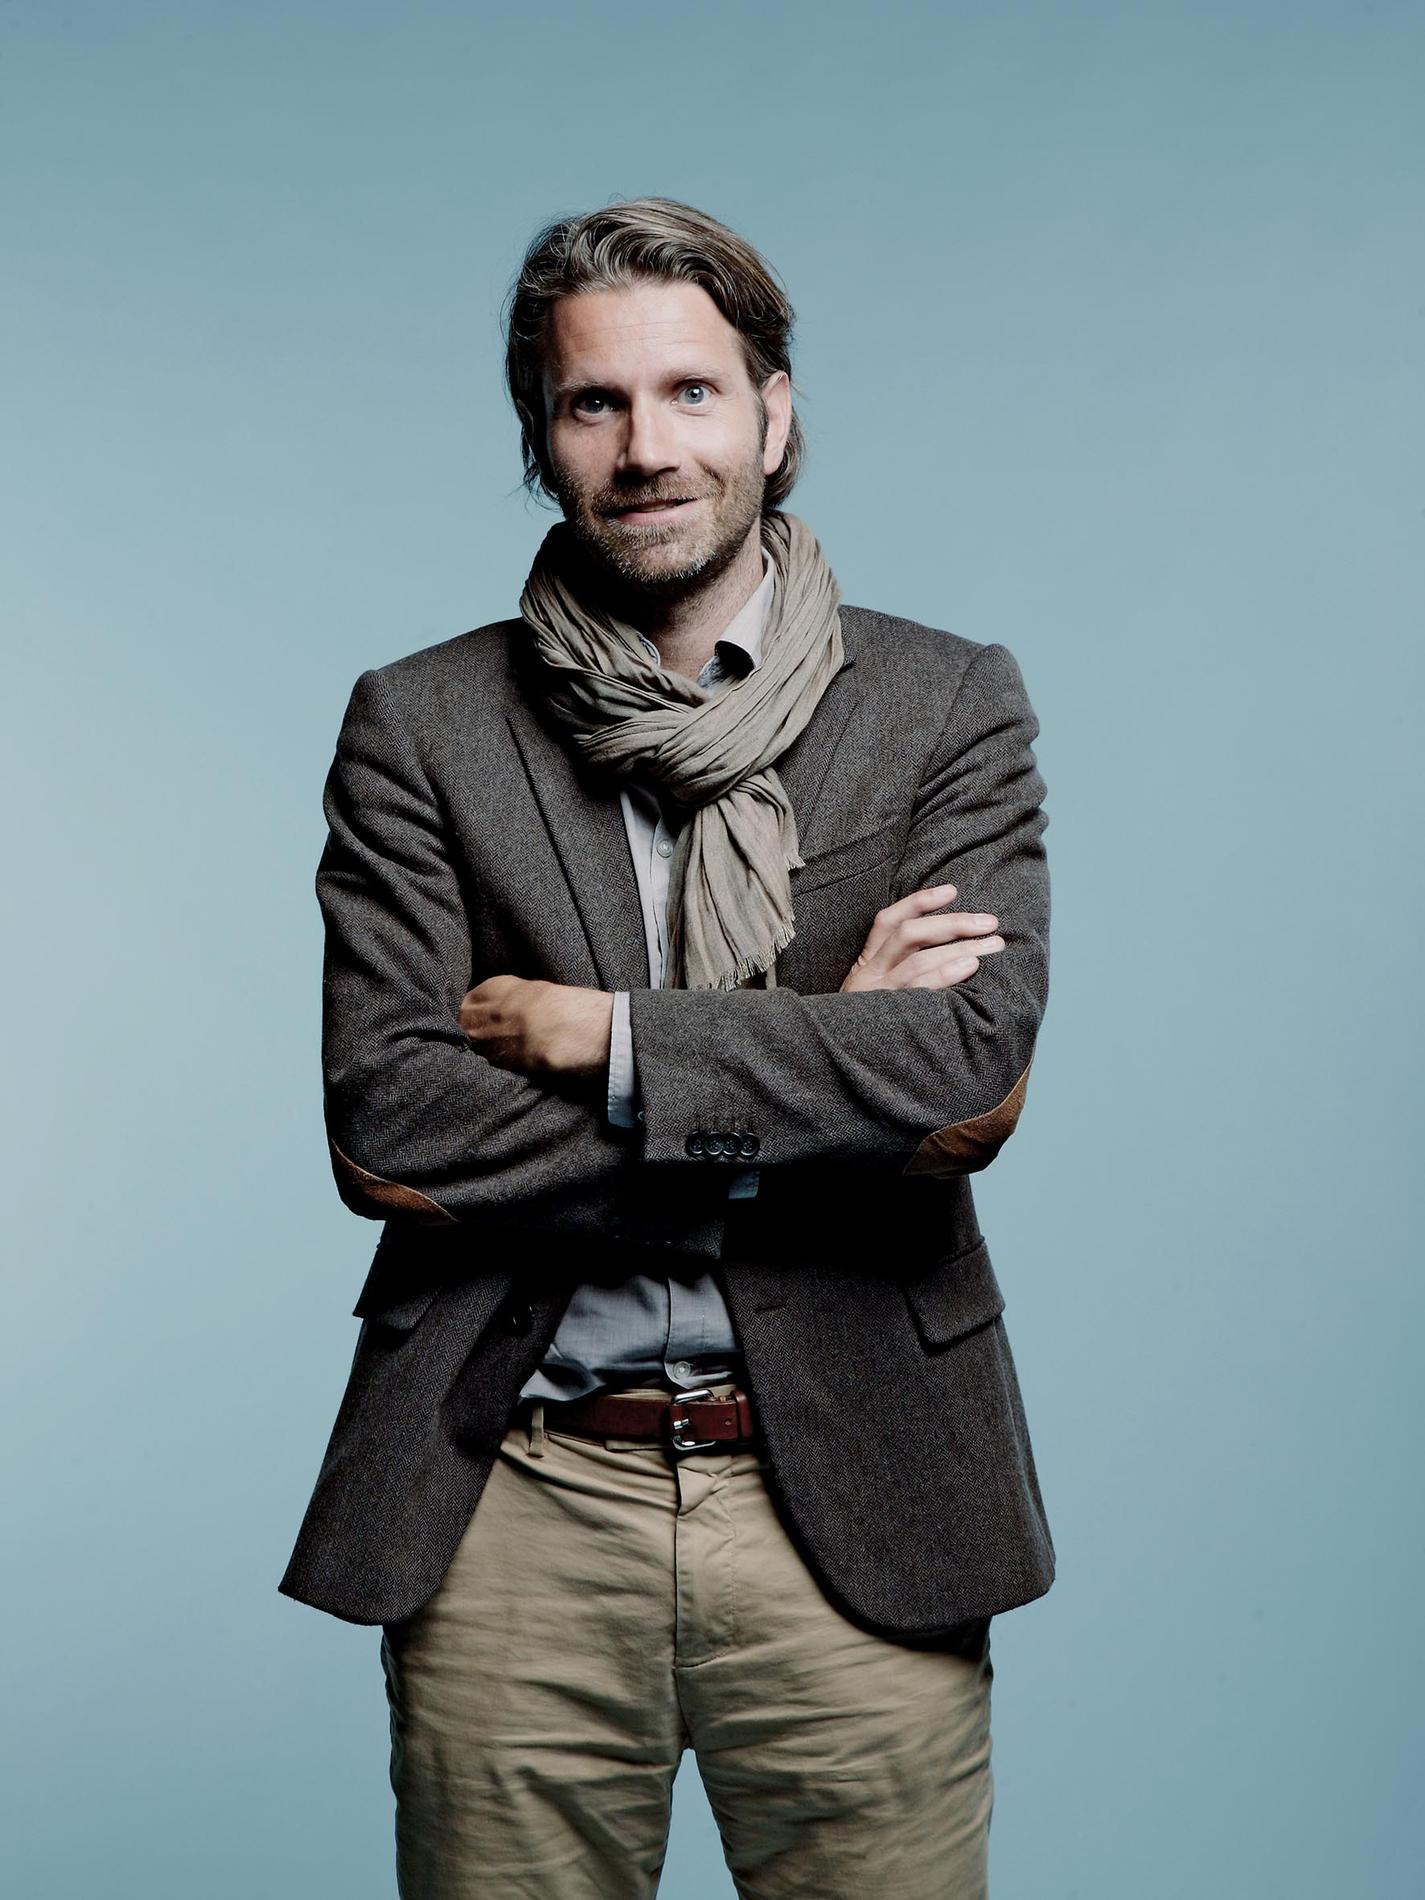without_mask: (540, 308, 786, 564)
